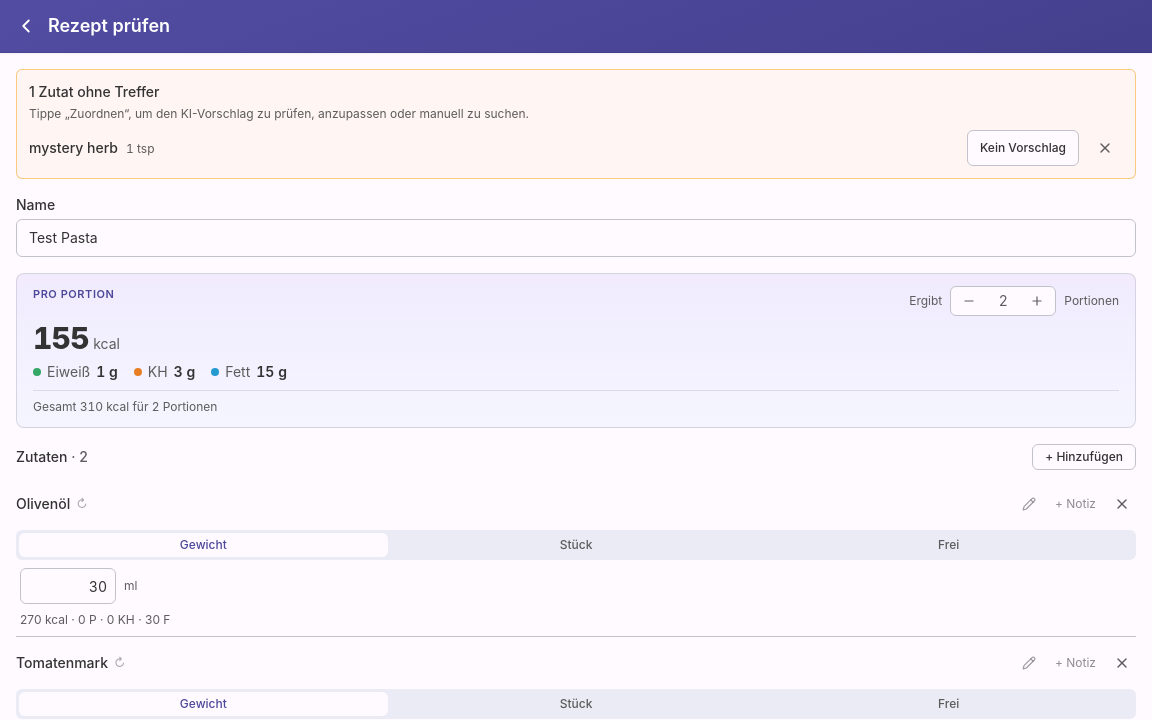
it: ReviewImportScreen › discards an unmatched ingredient without resolving it
This screenshot has width=1152, height=720.
Click the button named "Zutat „mystery herb“ verwerfen". click: coordinates (1105, 148)
box: [1087,130,1123,166]
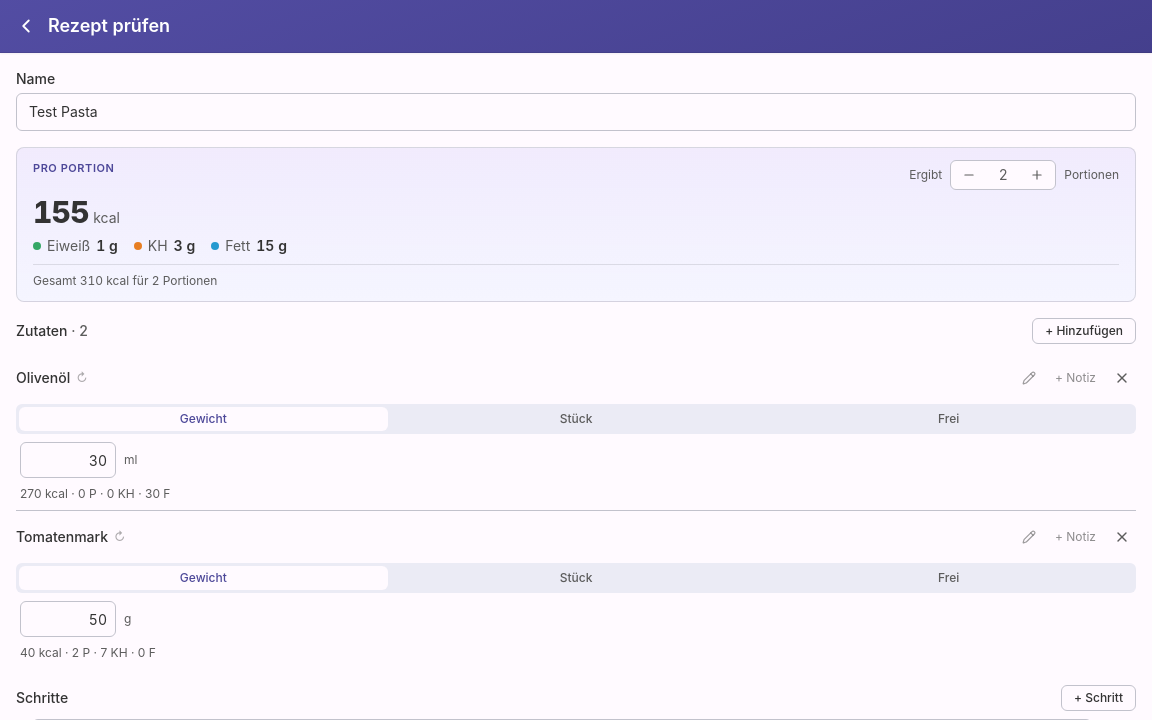
Now the text "mystery herb" is gone
Now the text "Zutat ohne Treffer" is gone
